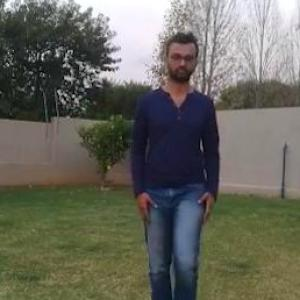follow: (132, 24, 220, 299)
